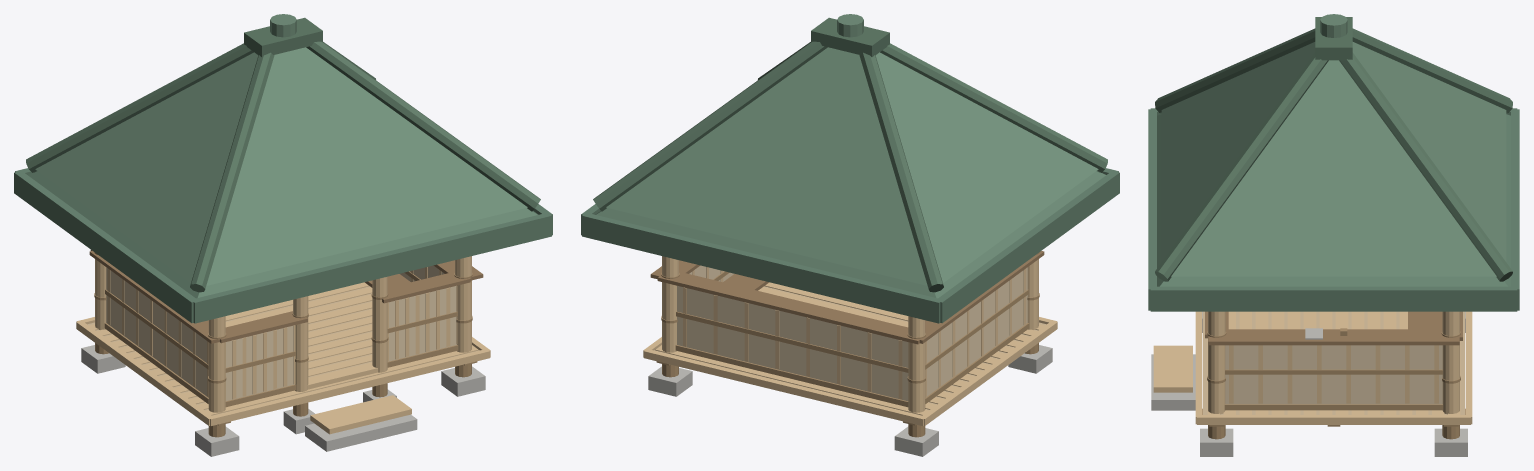
File: exit_guard_house_1.glb
3 renders of one model, left to right at view 1: azimuth 30°, elevation 25°; view 2: azimuth 150°, elevation 25°; view 3: azimuth 270°, elevation 25°, orthographic. The views are drawn at different scales.
Visible parts, largest first — view 1: Hut_Batch_Mat_Thatch_Roof, Hut_Batch_Mat_Bamboo, Hut_Batch_Mat_Thatch_Fringe, Hut_Batch_Mat_Thatch_Ridge, Hut_Batch_Mat_Sawali, Hut_Batch_Mat_Concrete_Base, Hut_Batch_Mat_Bamboo_Dark, Hut_Batch_Mat_Timber_Counter, Hut_Batch_Mat_Bamboo_Floor; view 2: Hut_Batch_Mat_Thatch_Roof, Hut_Batch_Mat_Thatch_Fringe, Hut_Batch_Mat_Sawali, Hut_Batch_Mat_Bamboo, Hut_Batch_Mat_Thatch_Ridge, Hut_Batch_Mat_Timber_Counter, Hut_Batch_Mat_Bamboo_Dark, Hut_Batch_Mat_Concrete_Base, Hut_Batch_Mat_Bamboo_Floor; view 3: Hut_Batch_Mat_Thatch_Roof, Hut_Batch_Mat_Thatch_Fringe, Hut_Batch_Mat_Bamboo, Hut_Batch_Mat_Thatch_Ridge, Hut_Batch_Mat_Sawali, Hut_Batch_Mat_Timber_Counter, Hut_Batch_Mat_Bamboo_Dark, Hut_Batch_Mat_Concrete_Base, Hut_Batch_Mat_Bamboo_Floor.
Boxes of the visible parts, bbox=[...] form: Hut_Batch_Mat_Thatch_Roof: bbox=[35, 14, 527, 285]; Hut_Batch_Mat_Bamboo: bbox=[76, 256, 490, 434]; Hut_Batch_Mat_Thatch_Fringe: bbox=[14, 168, 552, 323]; Hut_Batch_Mat_Thatch_Ridge: bbox=[26, 17, 540, 292]; Hut_Batch_Mat_Sawali: bbox=[106, 265, 456, 401]; Hut_Batch_Mat_Concrete_Base: bbox=[81, 345, 485, 456]; Hut_Batch_Mat_Bamboo_Dark: bbox=[94, 252, 477, 437]; Hut_Batch_Mat_Timber_Counter: bbox=[89, 250, 483, 343]; Hut_Batch_Mat_Bamboo_Floor: bbox=[87, 286, 479, 415]; Hut_Batch_Mat_Thatch_Roof: bbox=[606, 14, 1098, 285]; Hut_Batch_Mat_Thatch_Fringe: bbox=[581, 168, 1119, 323]; Hut_Batch_Mat_Sawali: bbox=[677, 265, 1027, 401]; Hut_Batch_Mat_Bamboo: bbox=[643, 256, 1057, 425]; Hut_Batch_Mat_Thatch_Ridge: bbox=[593, 17, 1107, 292]; Hut_Batch_Mat_Timber_Counter: bbox=[650, 251, 1044, 344]; Hut_Batch_Mat_Bamboo_Dark: bbox=[656, 252, 1039, 437]; Hut_Batch_Mat_Concrete_Base: bbox=[648, 345, 1052, 456]; Hut_Batch_Mat_Bamboo_Floor: bbox=[654, 286, 1046, 415]; Hut_Batch_Mat_Thatch_Roof: bbox=[1161, 14, 1506, 276]; Hut_Batch_Mat_Thatch_Fringe: bbox=[1148, 108, 1519, 311]; Hut_Batch_Mat_Bamboo: bbox=[1153, 311, 1472, 424]; Hut_Batch_Mat_Thatch_Ridge: bbox=[1155, 17, 1512, 281]; Hut_Batch_Mat_Sawali: bbox=[1225, 345, 1442, 404]; Hut_Batch_Mat_Timber_Counter: bbox=[1205, 311, 1462, 345]; Hut_Batch_Mat_Bamboo_Dark: bbox=[1202, 328, 1465, 439]; Hut_Batch_Mat_Concrete_Base: bbox=[1151, 311, 1467, 456]; Hut_Batch_Mat_Bamboo_Floor: bbox=[1203, 311, 1464, 414].
Bounding box in the file's own units: 4.37 × 4.12 × 3.77.
